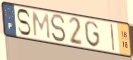2: (68, 16, 84, 47)
G: (84, 20, 101, 49)
I: (109, 23, 116, 53)
M: (31, 11, 51, 41)
S: (50, 13, 67, 44), (16, 8, 32, 37)
